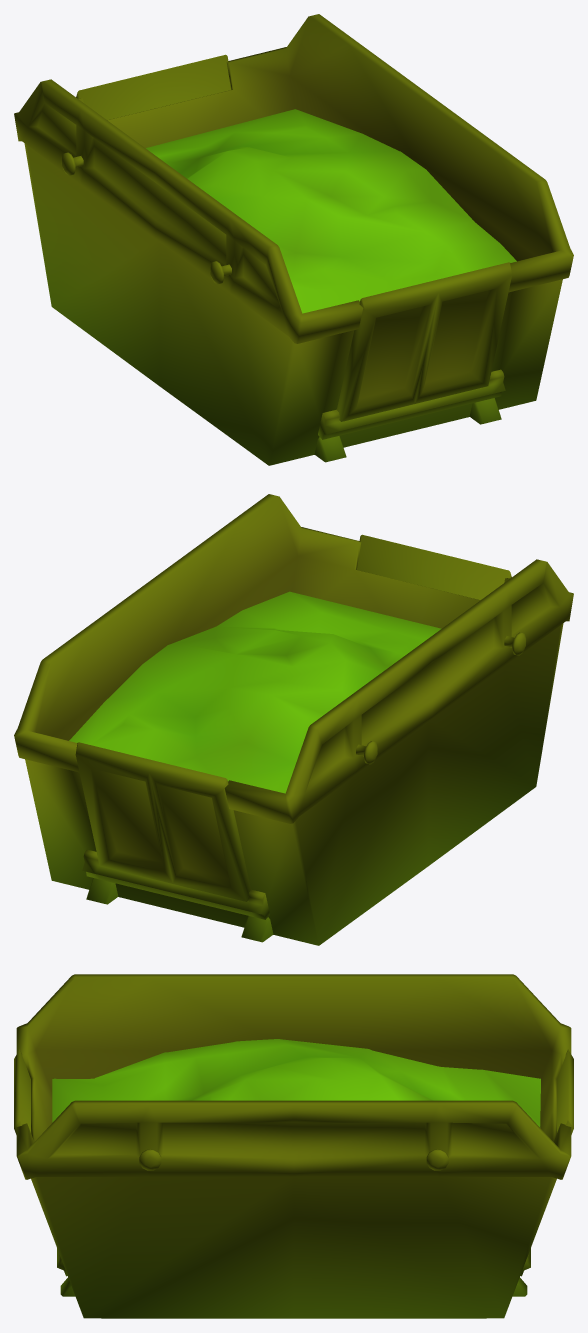
Rendered from SkipRedNight.glb.
The picture shows the model from 3 angles, top to bottom: view 1: azimuth 30°, elevation 25°; view 2: azimuth 150°, elevation 25°; view 3: azimuth 270°, elevation 25°; orthographic projection. The views are drawn at different scales.
Visible parts, largest first — view 1: SkipRedNight; view 2: SkipRedNight; view 3: SkipRedNight.
Part boxes in pixels (bbox=[...]): SkipRedNight: bbox=[14, 14, 573, 465]; SkipRedNight: bbox=[14, 494, 573, 945]; SkipRedNight: bbox=[14, 974, 573, 1318].
Size of the model in its own units: 3.34 by 2.3 by 5.4.
2 materials, 2 textured.
